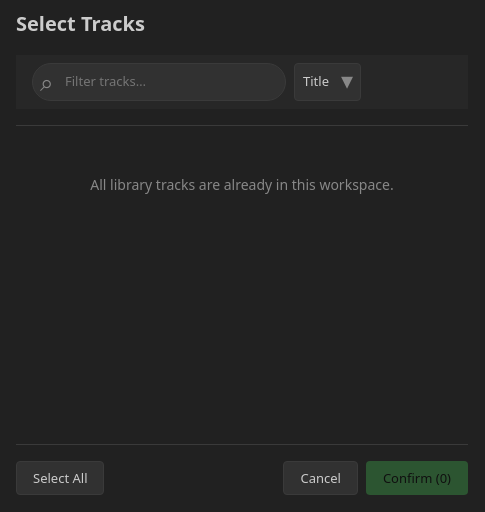
Test case: TrackSelectModal › empty-state wording › blames the search once the user has actually typed
In the search field with class "search-bar__input": (159, 82) [32,63,286,100], type "zzz"
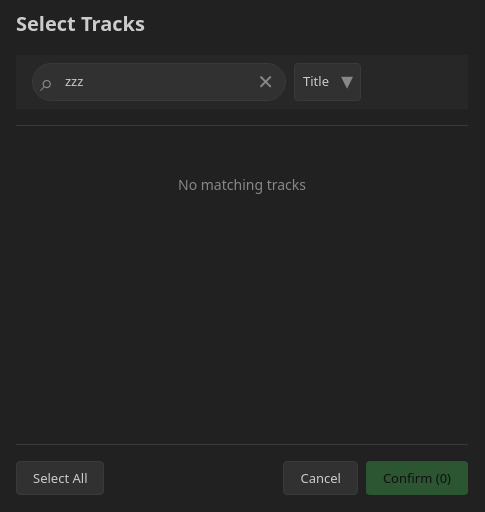
Expected: the text with class "track-select__empty" reads "No matching tracks", [178,174,306,194]
